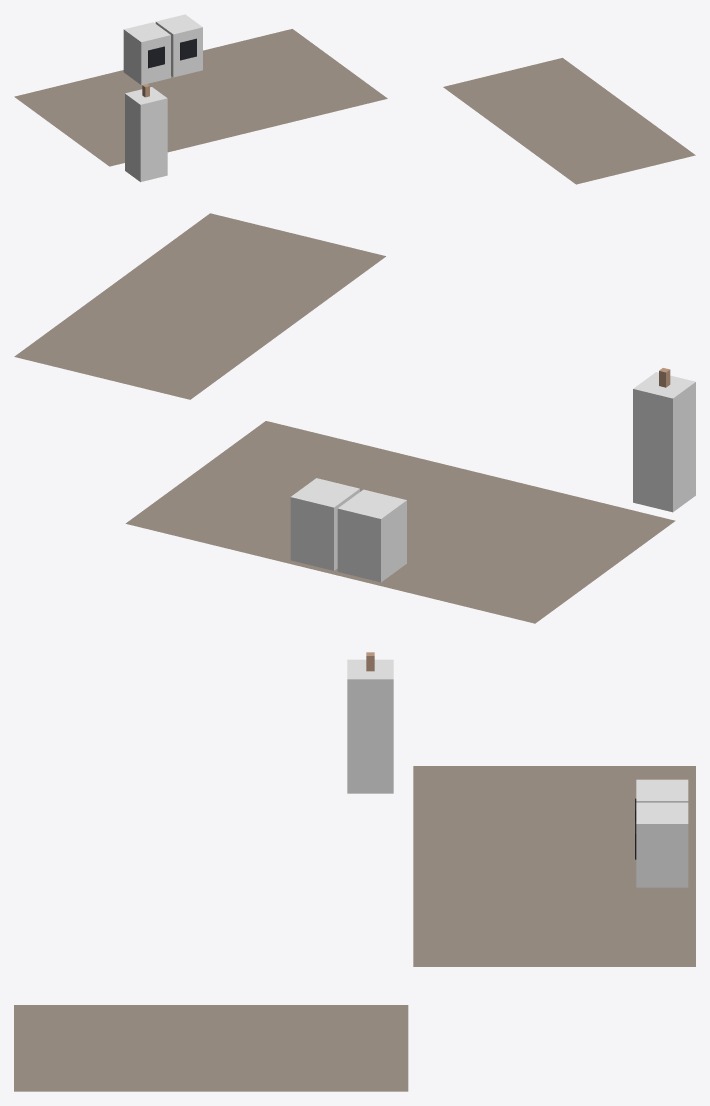
Rendered from fine-s0.glb.
The picture shows the model from 3 angles, top to bottom: view 1: azimuth 30°, elevation 25°; view 2: azimuth 150°, elevation 25°; view 3: azimuth 270°, elevation 25°; orthographic projection. The views are drawn at different scales.
Parts seen in each view (by area): view 1: soft-s0, water-heater.000, washer.000, washer.001; view 2: soft-s0, water-heater.000, washer.000, washer.001; view 3: soft-s0, water-heater.000, washer.001, washer.000.
Boxes of the visible parts, bbox=[...] form: soft-s0: bbox=[14, 29, 695, 184]; water-heater.000: bbox=[125, 84, 167, 181]; washer.000: bbox=[123, 22, 170, 85]; washer.001: bbox=[155, 14, 202, 77]; soft-s0: bbox=[14, 213, 675, 623]; water-heater.000: bbox=[633, 368, 695, 512]; washer.000: bbox=[337, 489, 406, 582]; washer.001: bbox=[290, 478, 359, 570]; soft-s0: bbox=[14, 766, 695, 1091]; water-heater.000: bbox=[347, 652, 393, 793]; washer.001: bbox=[635, 802, 688, 887]; washer.000: bbox=[635, 779, 688, 821].
Bounding box in the file's own units: 9.16 × 1.7 × 8.11.
